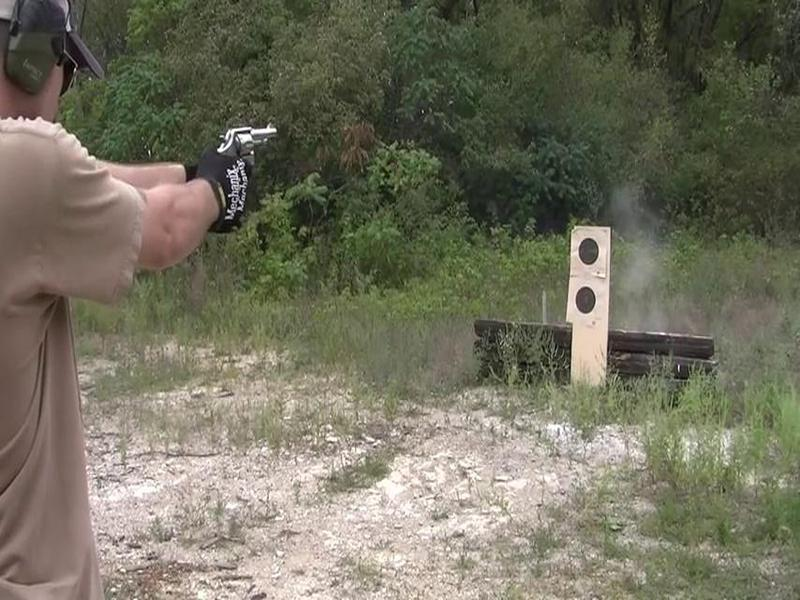Revolver: (207, 117, 283, 184)
